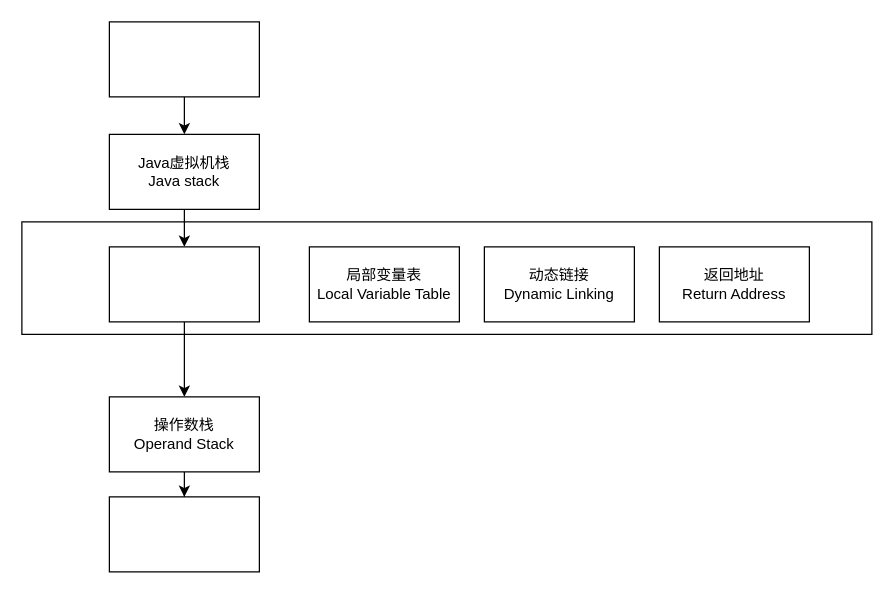
The diagram is 894 pixels wide and 594 high, and some of its shapes have lost their labels. The box of each missing label's shape, as (x1, y1, x2, y2) in pixels:
操作数: (108, 496, 259, 572)
栈帧 Stack Frame: (108, 246, 259, 322)
线程1 Thread: (108, 21, 259, 97)
